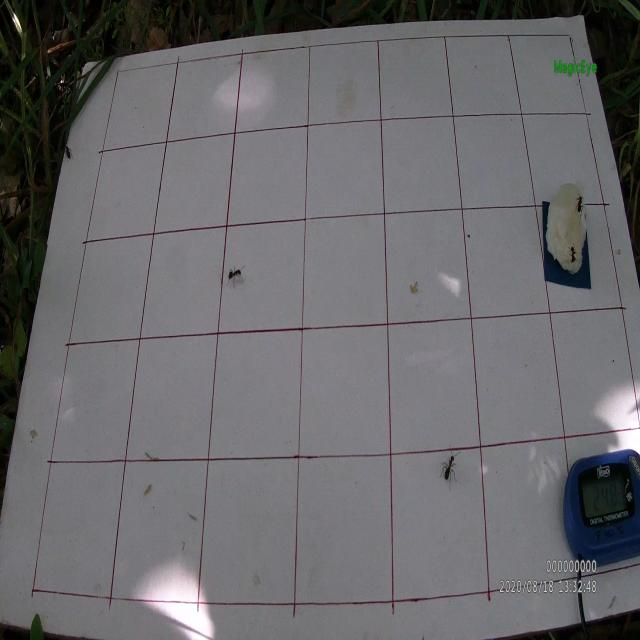Ant: (439, 444, 461, 491), (227, 264, 246, 290), (574, 192, 584, 225), (63, 142, 74, 163), (568, 241, 577, 265)
